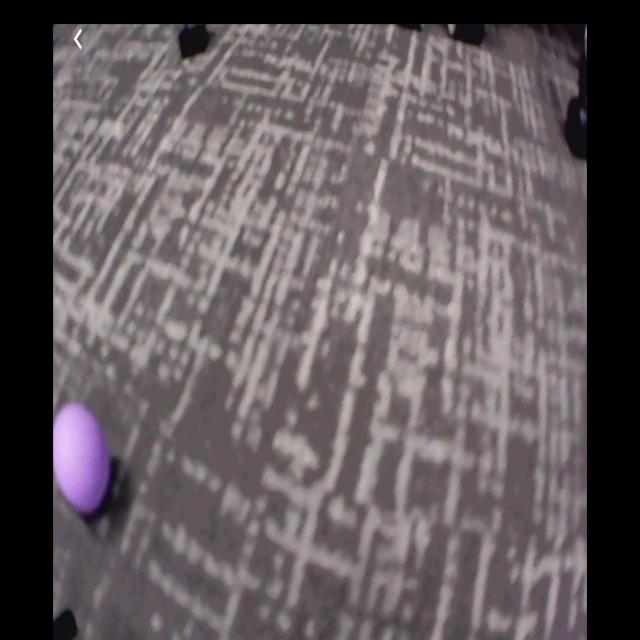ball: (53, 401, 112, 516)
